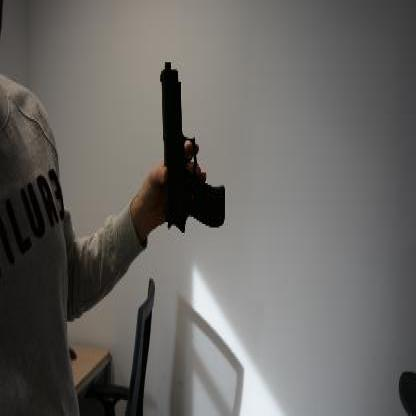pistol: (159, 60, 225, 232)
